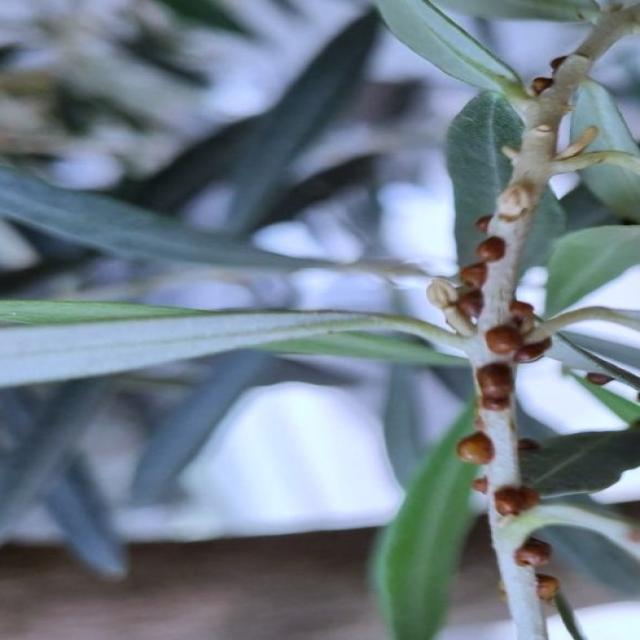Black Scale: (475, 299, 564, 411), (444, 236, 504, 336), (456, 430, 495, 465), (494, 485, 539, 515), (514, 536, 549, 569), (536, 574, 560, 603)
